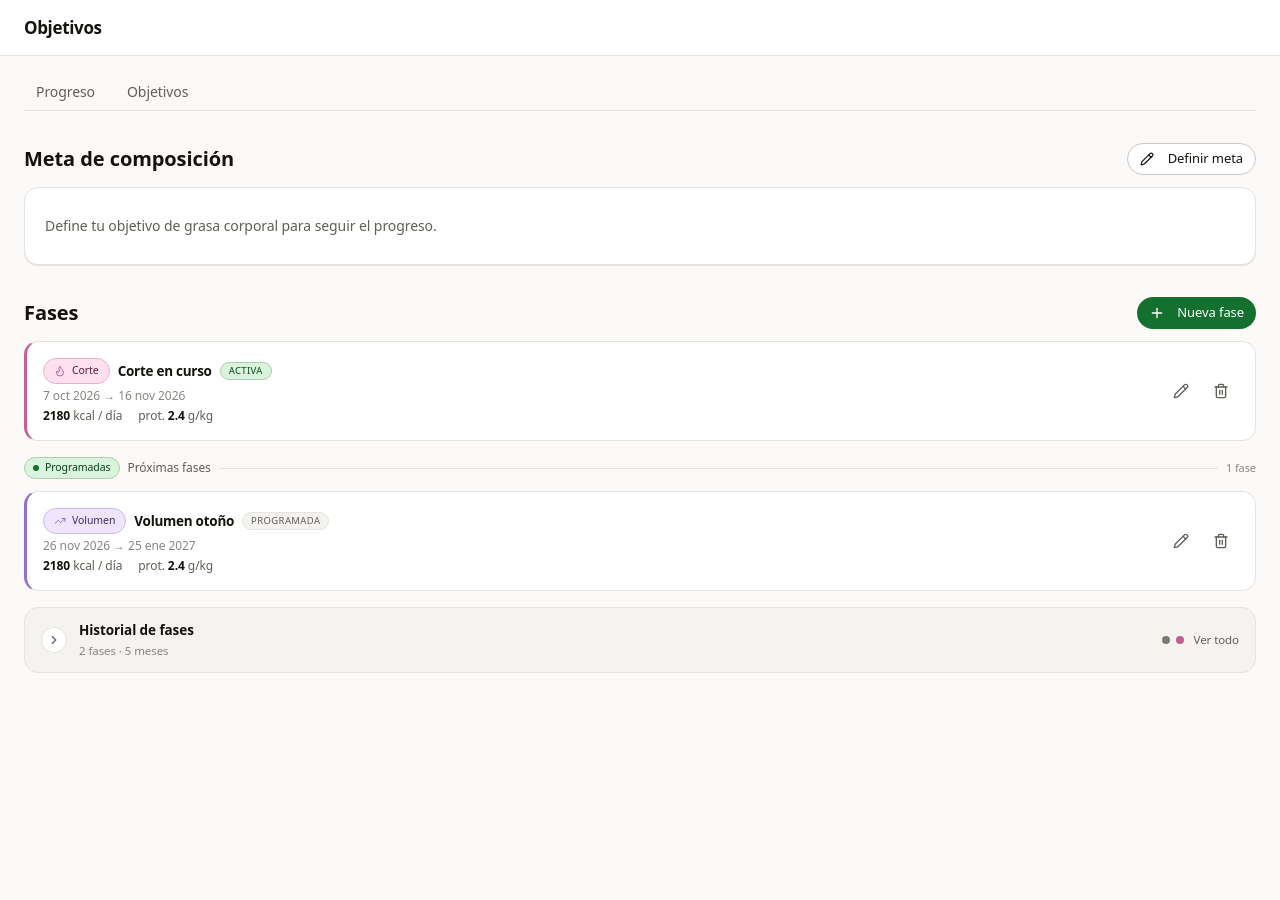
Test: ObjetivosPage — Programadas / Historial split (Tier-2) › an expanded frozen row offers "editar notas", not edit/delete
The width and height of the screenshot is (1280, 900).
Step 1. Click the button "Historial de fases 2 fases · 5 meses Ver todo" → {"x": 136, "y": 630}, box [24,607,1256,672]
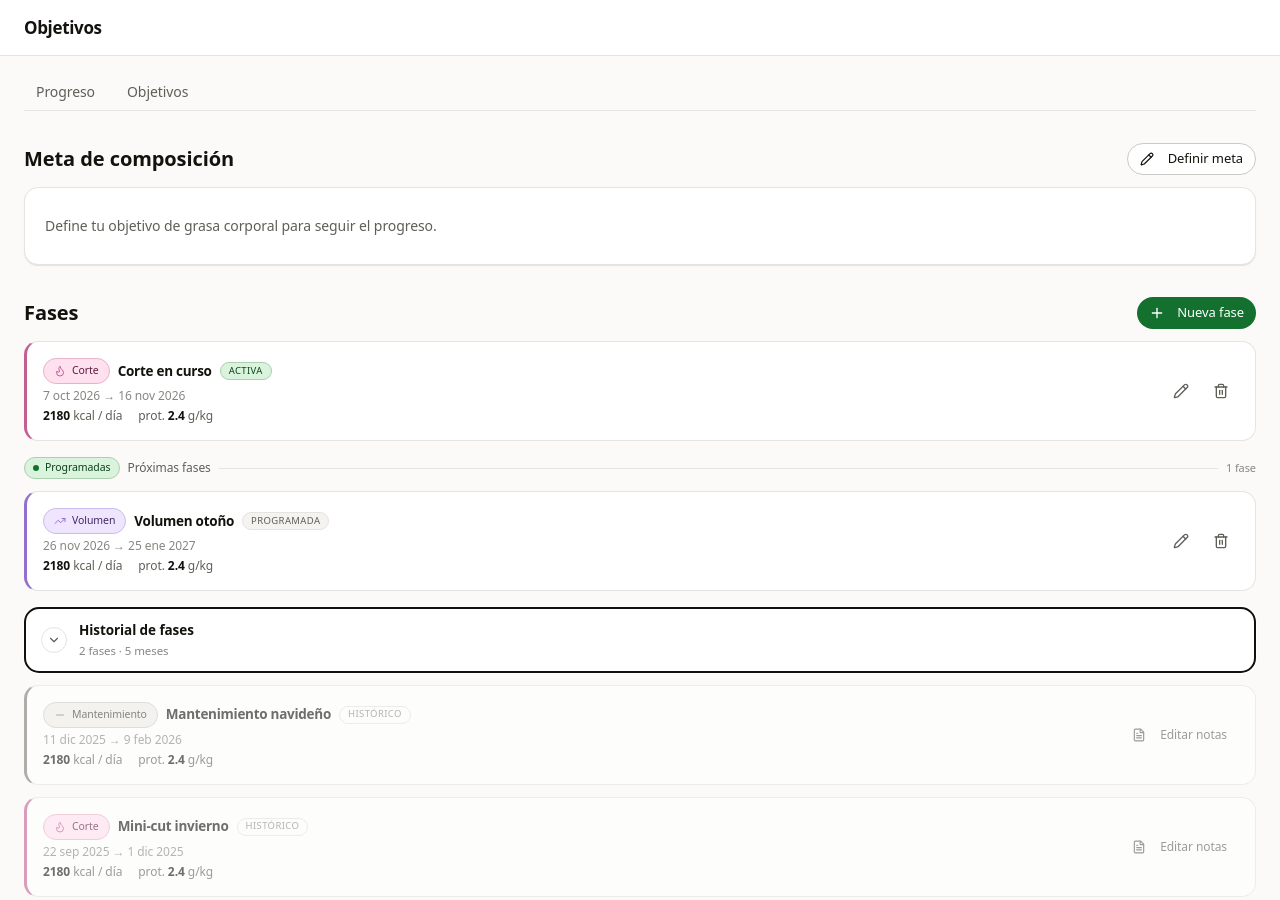
Expected: the text "Mini-cut invierno" is shown, [118,817,228,835]
Expected: the button "Editar notas" in the row of "Mini-cut invierno" is shown, [1120,830,1239,862]
